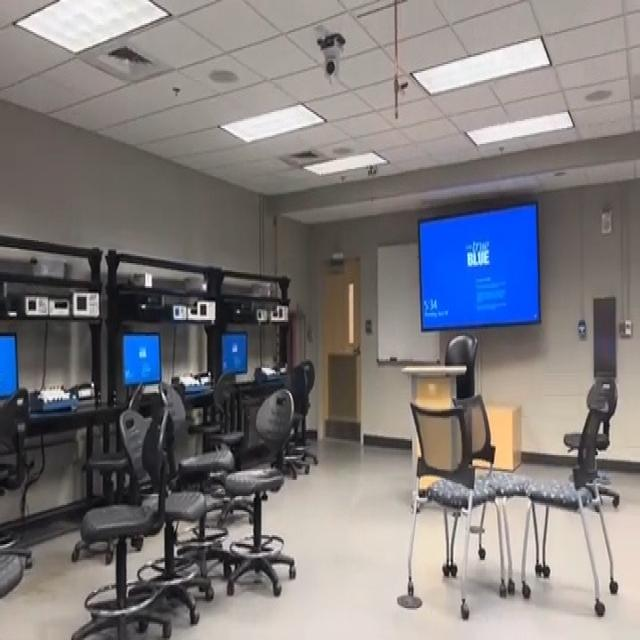drone: (361, 157, 386, 190)
